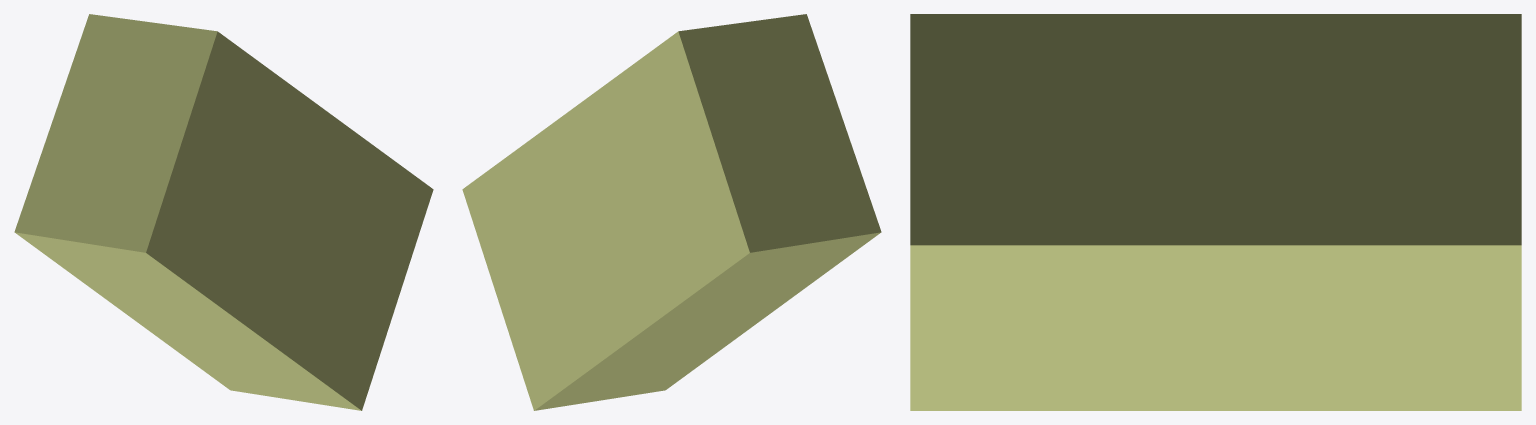
3 renders of one model, left to right at view 1: azimuth 30°, elevation 25°; view 2: azimuth 150°, elevation 25°; view 3: azimuth 270°, elevation 25°, orthographic. The views are drawn at different scales.
Parts seen in each view (by area): view 1: 0_1_1_3_3_1_0_2_2_1_2_3; view 2: 0_1_1_3_3_1_0_2_2_1_2_3; view 3: 0_1_1_3_3_1_0_2_2_1_2_3.
Boxes of the visible parts, bbox=[...] form: 0_1_1_3_3_1_0_2_2_1_2_3: bbox=[14, 14, 433, 410]; 0_1_1_3_3_1_0_2_2_1_2_3: bbox=[462, 14, 881, 410]; 0_1_1_3_3_1_0_2_2_1_2_3: bbox=[910, 14, 1521, 410].
Size of the model in its own units: 4.89 by 5.81 by 9.
